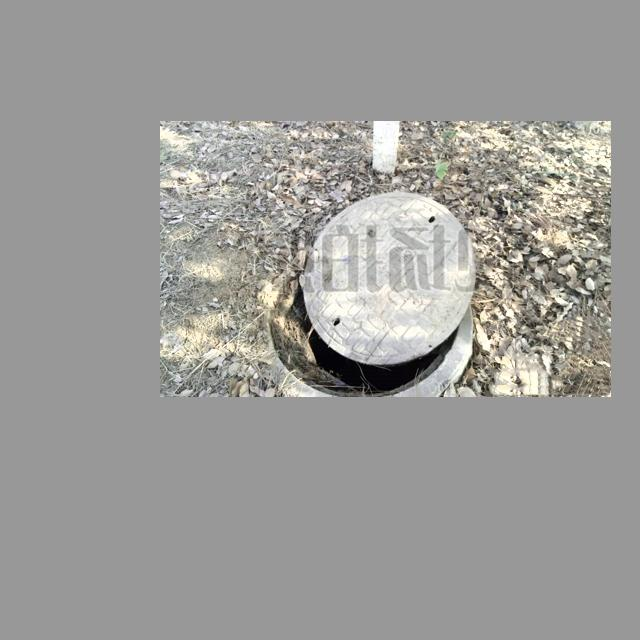uncovered: (257, 191, 475, 397)
